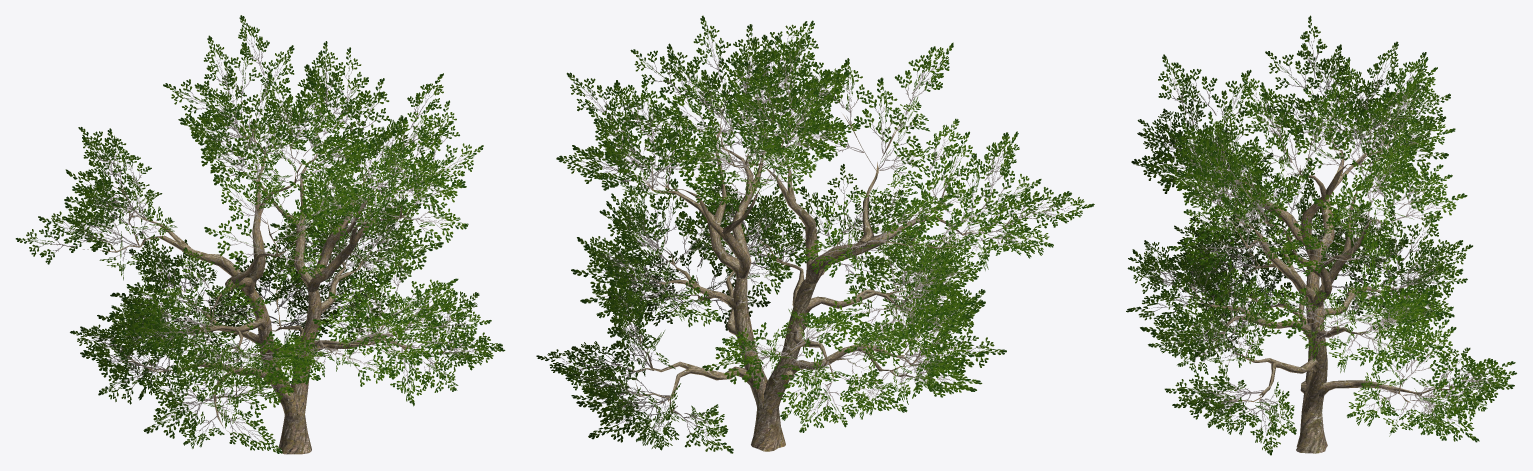
File: oak.glb
The picture shows the model from 3 angles, left to right: view 1: azimuth 30°, elevation 25°; view 2: azimuth 150°, elevation 25°; view 3: azimuth 270°, elevation 25°; orthographic projection. The views are drawn at different scales.
Parts seen in each view (by area): view 1: oak leaf_1, mossybark02_0; view 2: oak leaf_1, mossybark02_0; view 3: oak leaf_1, mossybark02_0.
Boxes of the visible parts, left/top/right/bottom form: oak leaf_1: left=15, top=15, right=505, bottom=453; mossybark02_0: left=83, top=84, right=446, bottom=454; oak leaf_1: left=536, top=15, right=1094, bottom=453; mossybark02_0: left=616, top=85, right=1021, bottom=451; oak leaf_1: left=1126, top=15, right=1516, bottom=455; mossybark02_0: left=1182, top=86, right=1465, bottom=453.
Size of the model in its own units: 14 by 11.74 by 10.89.
Materials: 2 (2 with a texture image).
